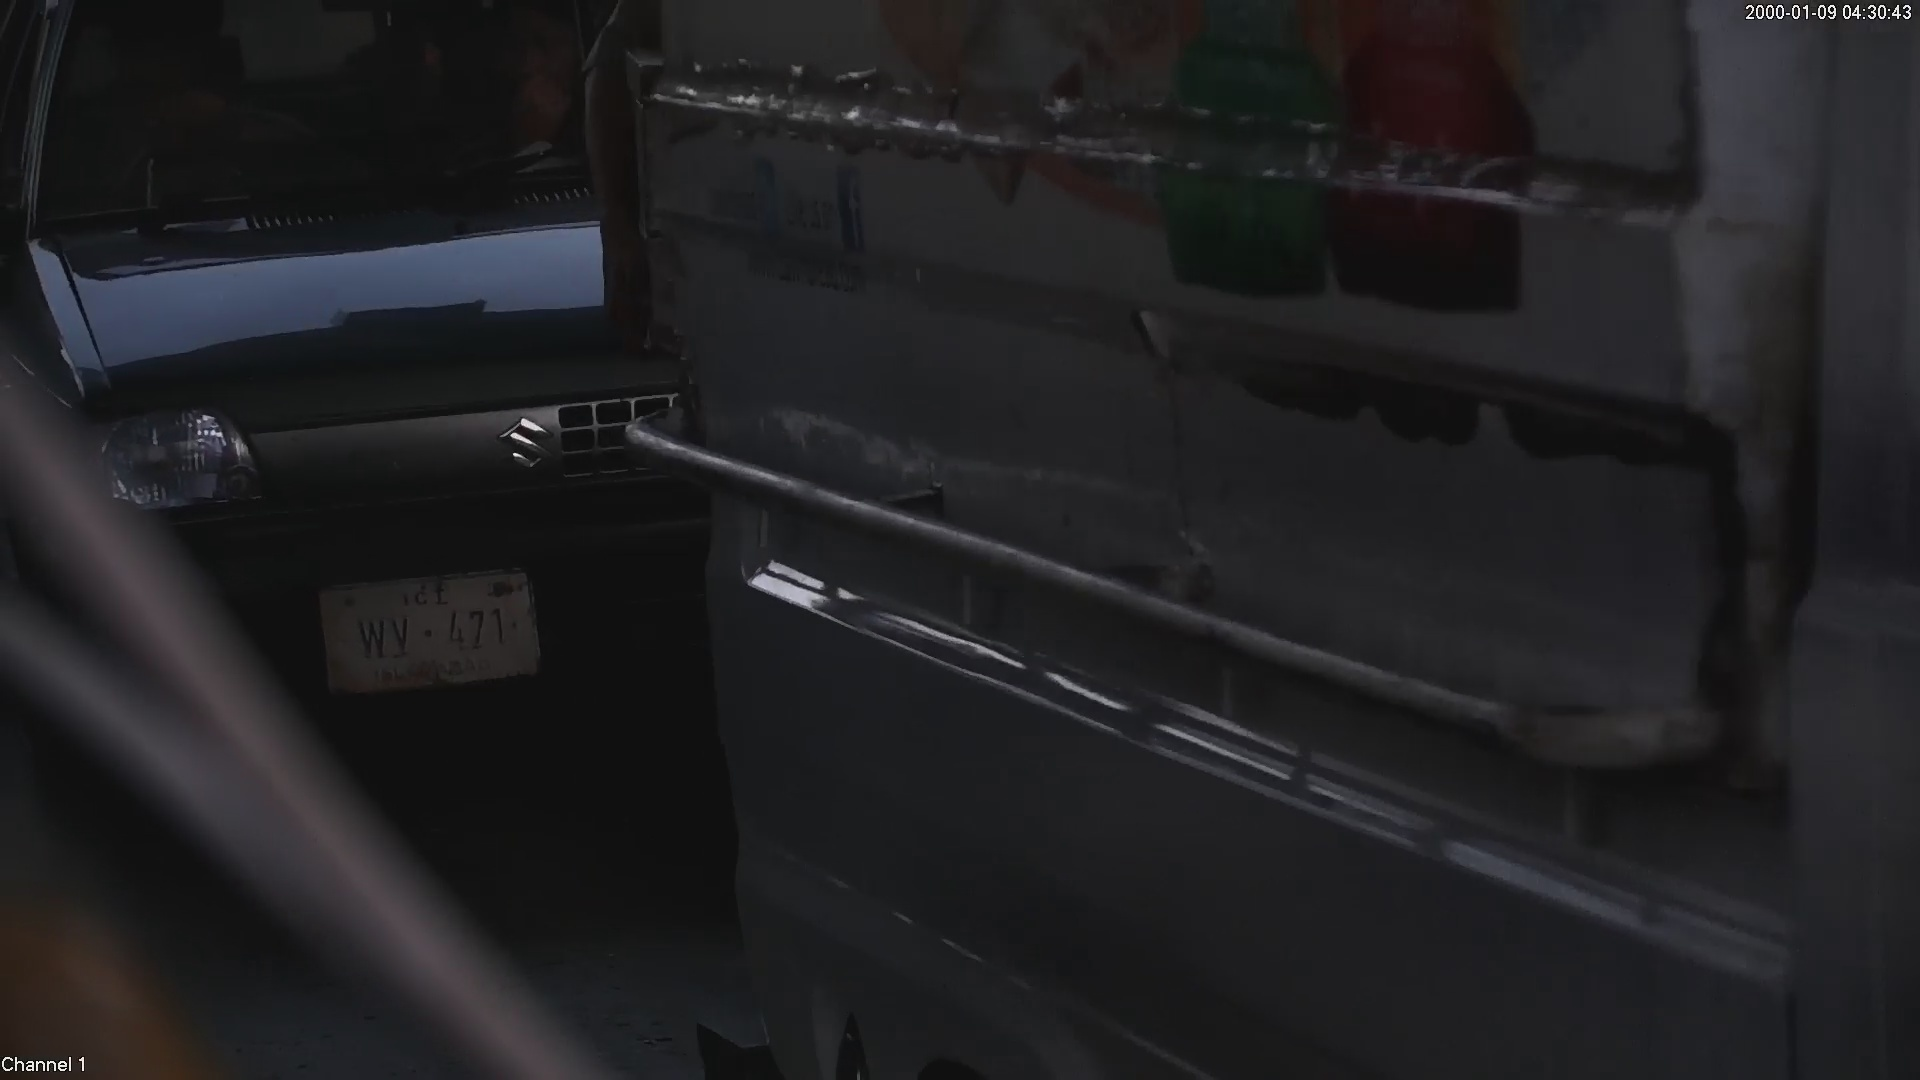Number_Plate: (304, 555, 545, 696)
